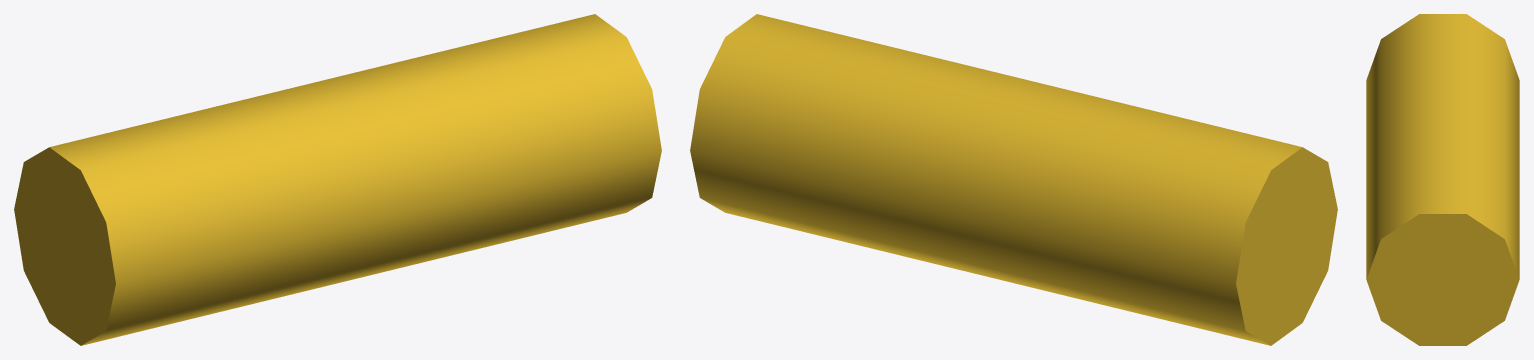
The model's file is geo_PulleyRopeMiddle.fbx.
3 views of the same model, side by side, from view 1: azimuth 30°, elevation 25°; view 2: azimuth 150°, elevation 25°; view 3: azimuth 270°, elevation 25° (orthographic). The views are drawn at different scales.
Parts seen in each view (by area): view 1: polySurface5; view 2: polySurface5; view 3: polySurface5.
Boxes of the visible parts, bbox=[...] form: polySurface5: bbox=[14, 14, 661, 345]; polySurface5: bbox=[690, 14, 1337, 345]; polySurface5: bbox=[1366, 14, 1519, 345].
Bounding box in the file's own units: 16.98 × 5.22 × 5.49.
1 material, 1 textured.
